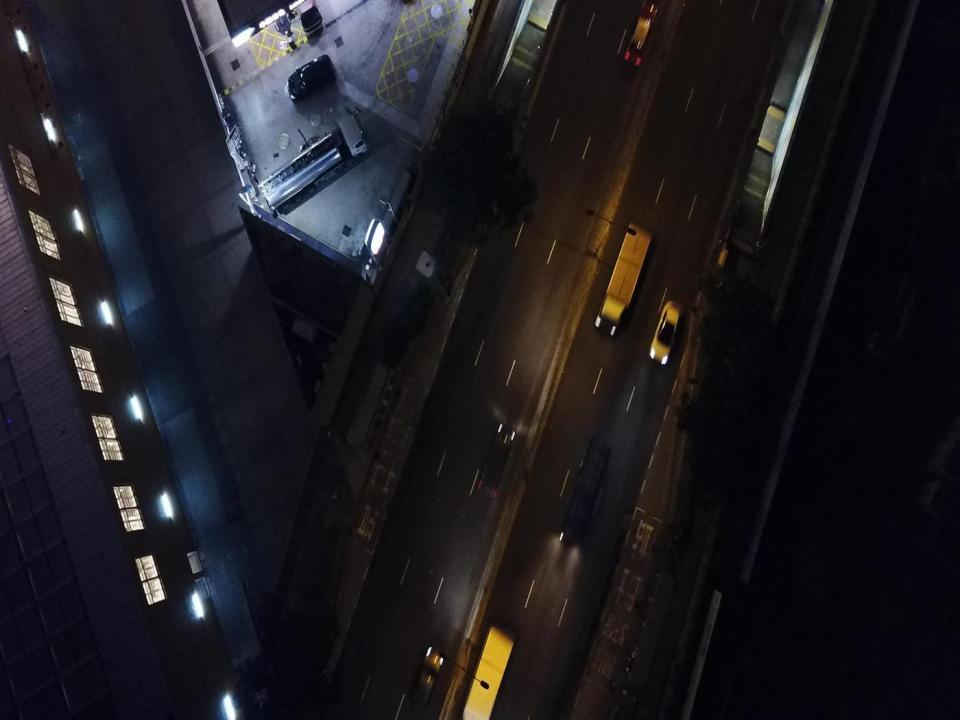car: (475, 418, 515, 502), (284, 56, 338, 104), (622, 3, 658, 72), (650, 300, 684, 366), (414, 647, 444, 711)
truck: (254, 113, 369, 216), (593, 222, 652, 342), (560, 437, 613, 550), (460, 620, 516, 719), (298, 0, 325, 40)
